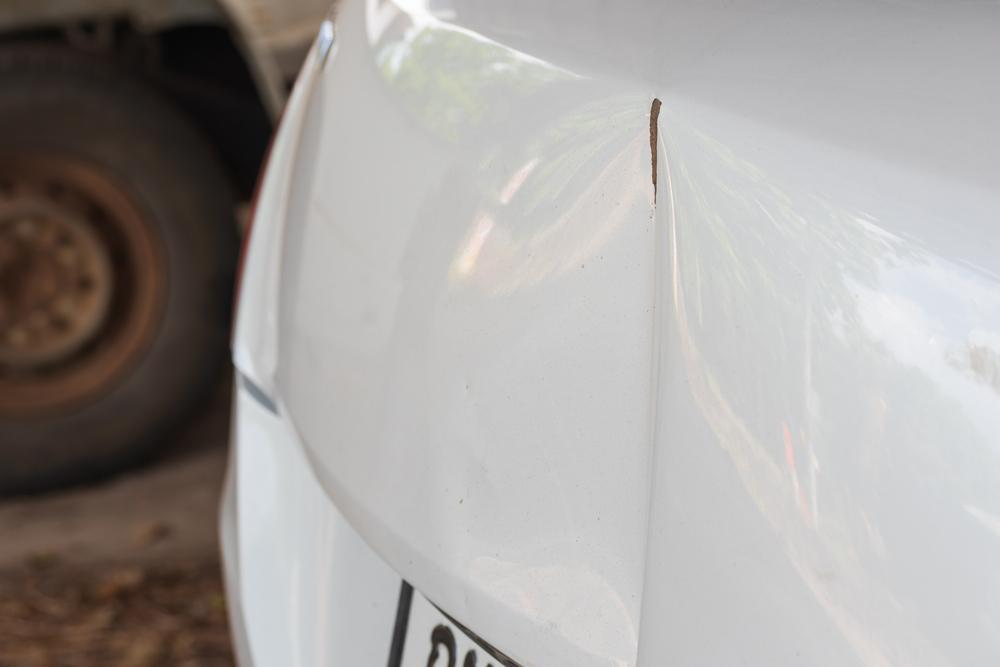dent: (462, 99, 710, 666)
